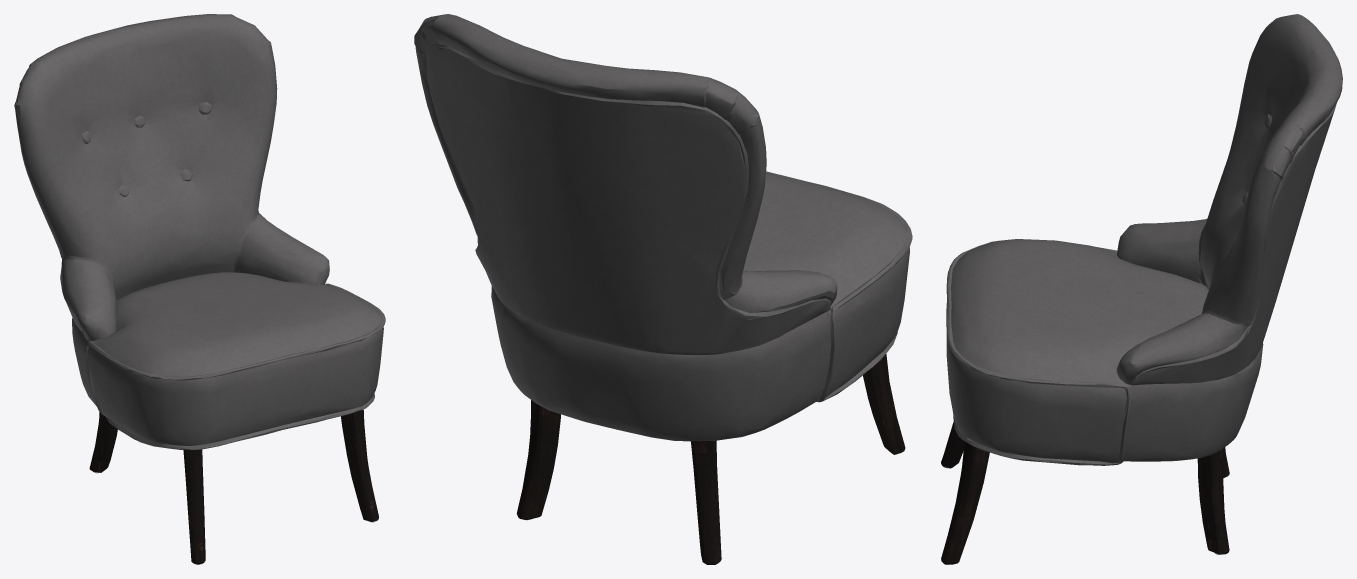
File: REMSTA armchair - Hakebo dark gray.glb
3 renders of one model, left to right at view 1: azimuth 30°, elevation 25°; view 2: azimuth 150°, elevation 25°; view 3: azimuth 270°, elevation 25°, orthographic. The views are drawn at different scales.
Visible parts, largest first — view 1: ProcessedMeshNode; view 2: ProcessedMeshNode; view 3: ProcessedMeshNode.
Boxes of the visible parts, x1,y1,x2,y2 form: ProcessedMeshNode: (14, 14, 385, 564); ProcessedMeshNode: (414, 14, 912, 564); ProcessedMeshNode: (941, 14, 1342, 564).
Bounding box in the file's own units: 0.5998 × 0.8818 × 0.7164.
1 material, 1 textured.
